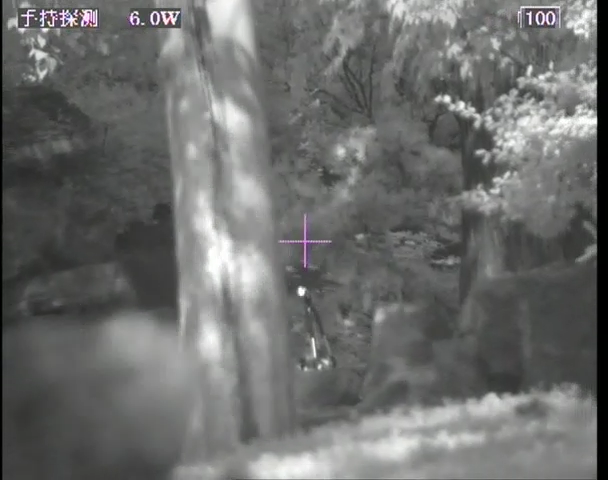my: (294, 283, 308, 297)
